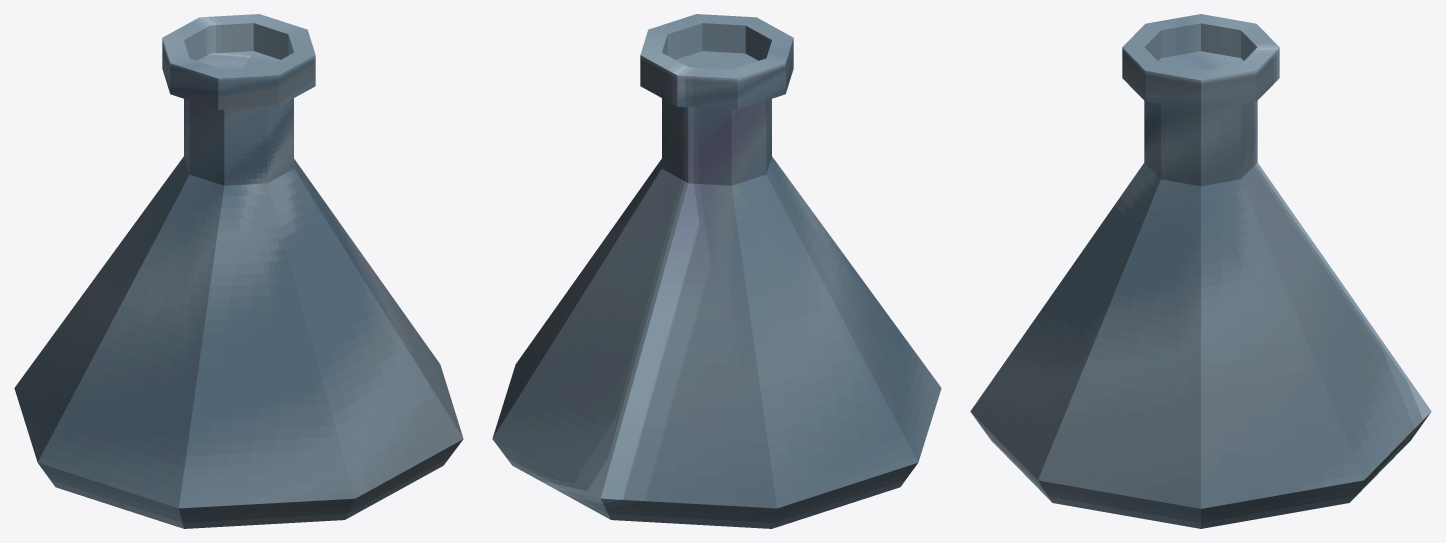
The model's file is Conical Flask.fbx.
3 renders of one model, left to right at view 1: azimuth 30°, elevation 25°; view 2: azimuth 150°, elevation 25°; view 3: azimuth 270°, elevation 25°, orthographic.
Visible parts, largest first — view 1: Conical Flask; view 2: Conical Flask; view 3: Conical Flask.
Part boxes in pixels (<box>): Conical Flask: <box>14,14,463,528</box>; Conical Flask: <box>492,14,941,528</box>; Conical Flask: <box>970,14,1431,528</box>.
Bounding box in the file's own units: 49.69 × 46.7 × 49.69.
Materials: 1 (1 with a texture image).
